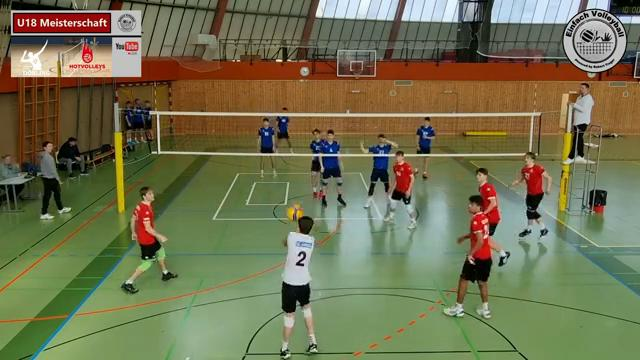Player: (121, 187, 177, 293), (444, 195, 491, 318), (512, 152, 551, 237), (476, 168, 509, 266), (360, 134, 397, 207), (384, 151, 416, 228), (320, 129, 346, 206), (416, 117, 435, 153), (276, 115, 292, 152), (310, 155, 320, 198), (260, 156, 264, 177)
Receive: (271, 200, 321, 360)
ball: (285, 201, 303, 221)
